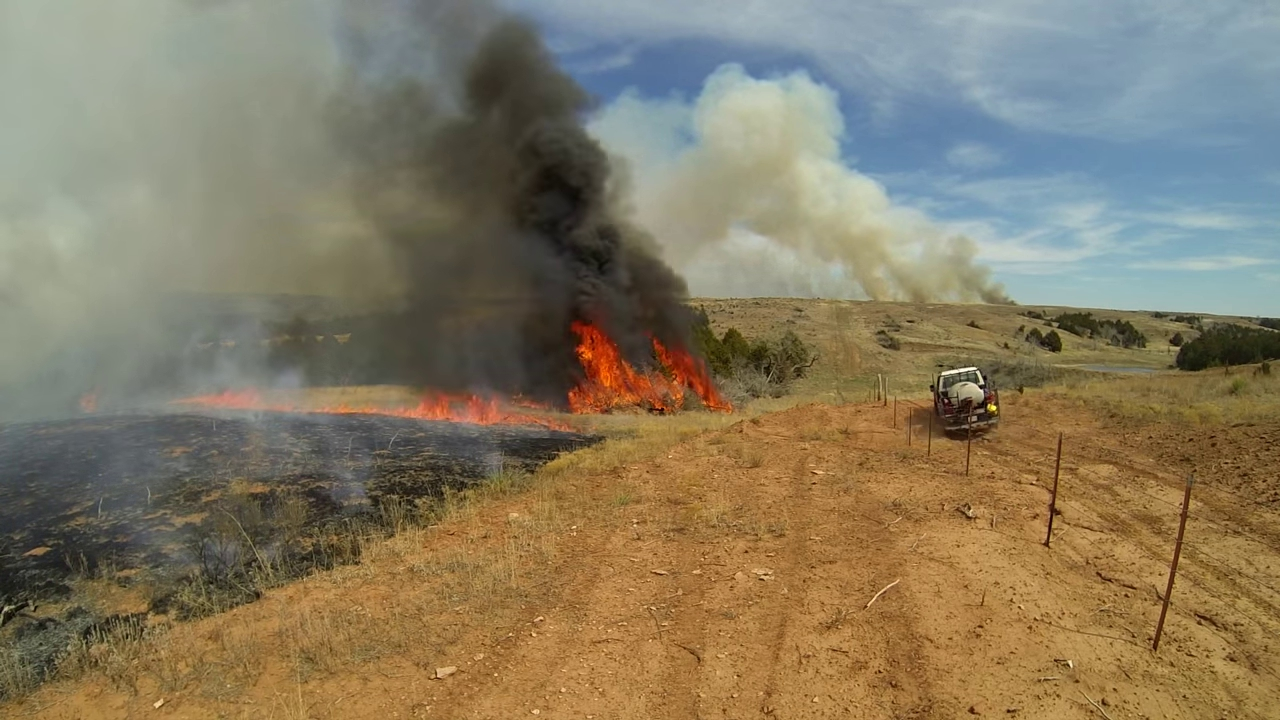forest_fire: (170, 389, 565, 427), (567, 321, 730, 412)
